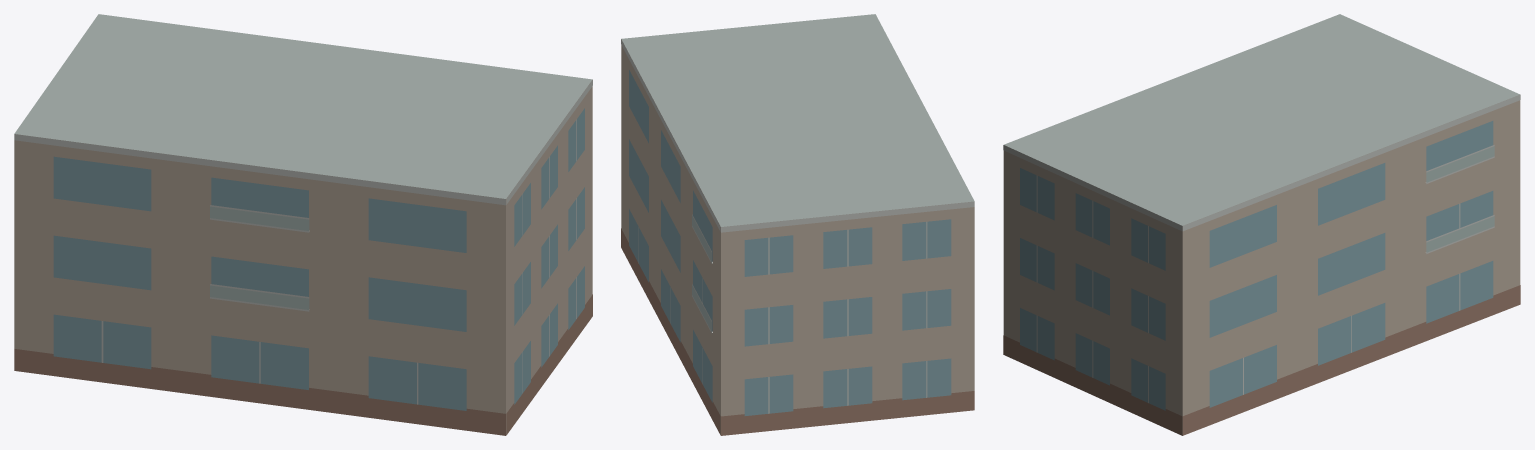
File: survey-upis-32596684.glb
3 renders of one model, left to right at view 1: azimuth 30°, elevation 25°; view 2: azimuth 150°, elevation 25°; view 3: azimuth 270°, elevation 25°, orthographic. The views are drawn at different scales.
Parts seen in each view (by area): view 1: survey-upis-32596684.tmp; view 2: survey-upis-32596684.tmp; view 3: survey-upis-32596684.tmp.
Part boxes in pixels (left/top/right/bottom): survey-upis-32596684.tmp: left=14, top=14, right=592, bottom=435; survey-upis-32596684.tmp: left=621, top=14, right=974, bottom=435; survey-upis-32596684.tmp: left=1003, top=14, right=1520, bottom=435.
Bounding box in the file's own units: 19.81 × 9.15 × 20.42.
